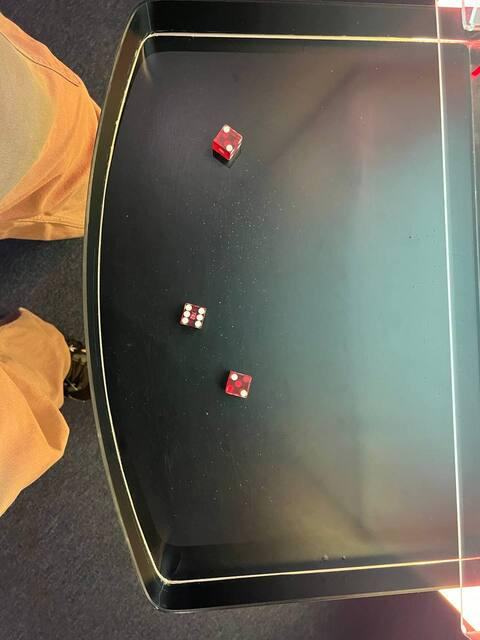six: (176, 299, 211, 333)
two: (209, 122, 244, 155), (222, 368, 255, 401)
